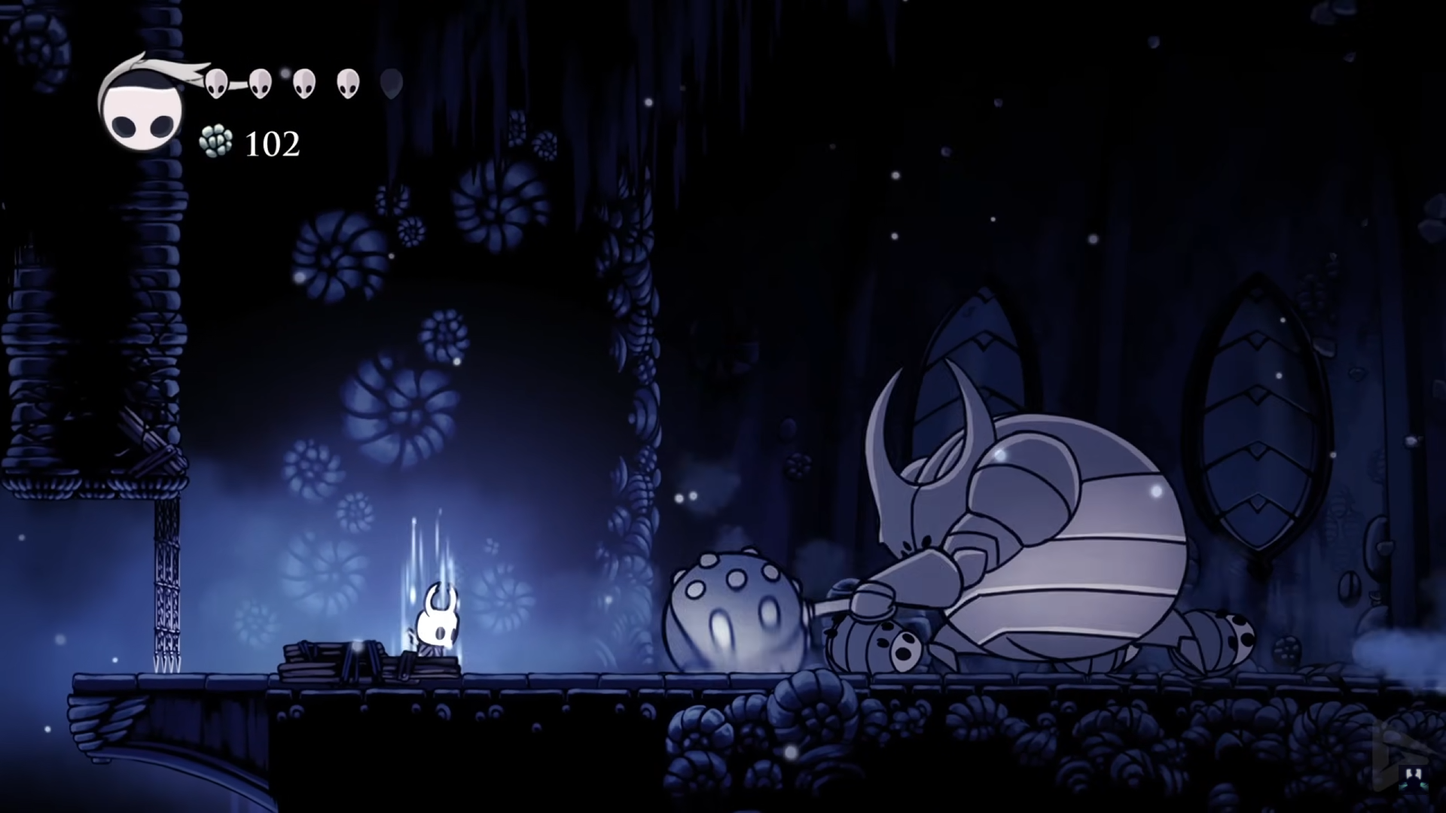HK: (404, 578, 466, 667)
